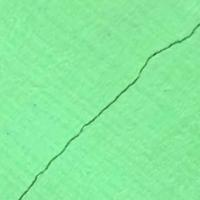crack: (14, 16, 199, 199)
